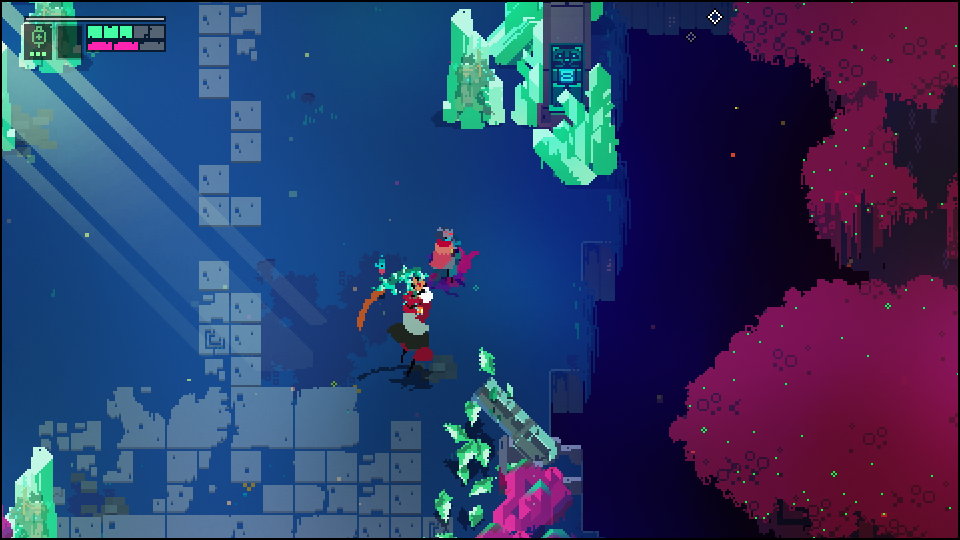hanged_man: (366, 266, 437, 369)
player: (428, 223, 461, 278)
